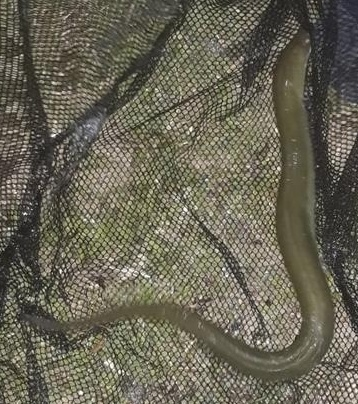Anguilla anguilla: (20, 20, 338, 384)
